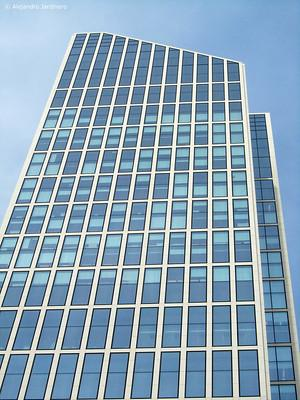building: (1, 28, 298, 400)
